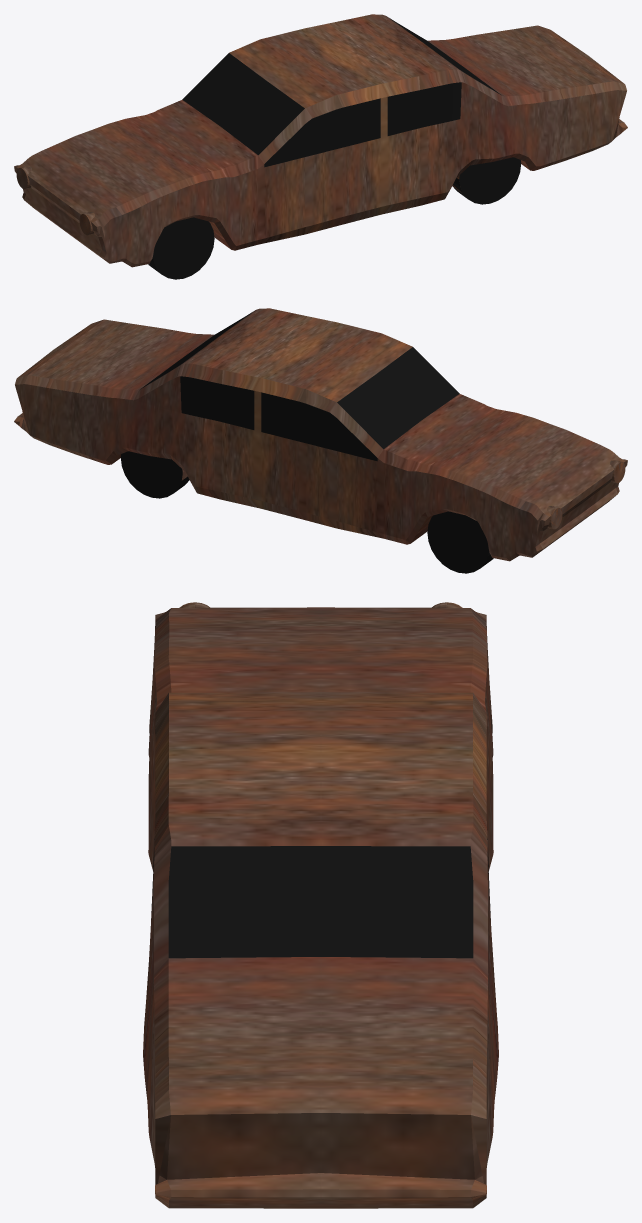
File: dodge dart GAME.fbx
3 views of the same model, one above another, from view 1: azimuth 30°, elevation 25°; view 2: azimuth 150°, elevation 25°; view 3: azimuth 270°, elevation 25° (orthographic). The views are drawn at different scales.
Visible parts, largest first — view 1: Dodge Body; view 2: Dodge Body; view 3: Dodge Body.
Boxes of the visible parts, bbox=[...] form: Dodge Body: bbox=[14, 14, 627, 279]; Dodge Body: bbox=[14, 308, 627, 573]; Dodge Body: bbox=[143, 602, 498, 1208].
Size of the model in its own units: 451 by 118 by 130.
2 materials, 1 textured.
